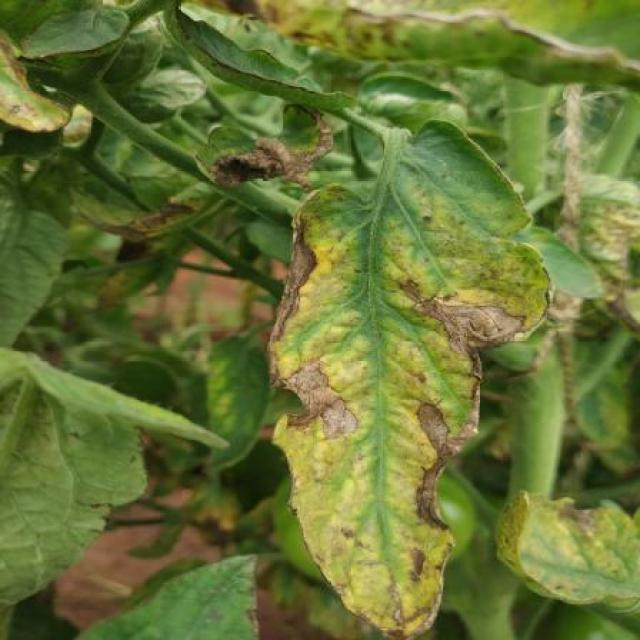Early Blight: (263, 120, 558, 639)
